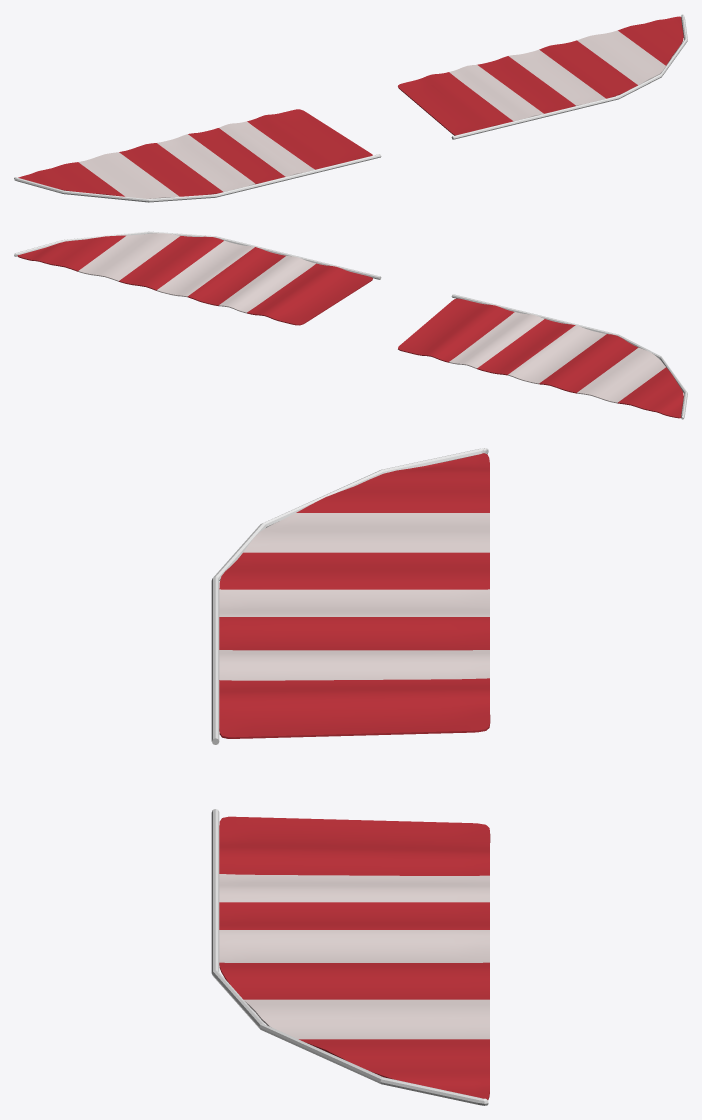
The model's file is skrzydla2.fbx.
3 renders of one model, top to bottom at view 1: azimuth 30°, elevation 25°; view 2: azimuth 150°, elevation 25°; view 3: azimuth 270°, elevation 25°, orthographic. The views are drawn at different scales.
Visible parts, largest first — view 1: Cylinder.003, Cylinder.002; view 2: Cylinder.003, Cylinder.002; view 3: Cylinder.003, Cylinder.002.
Boxes of the visible parts, x1,y1,x2,y2 form: Cylinder.003: (18,16,683,198); Cylinder.002: (14,14,687,202); Cylinder.003: (17,233,683,418); Cylinder.002: (14,231,687,419); Cylinder.003: (219,453,490,1099); Cylinder.002: (211,448,488,1105).
Bounding box in the file's own units: 810 × 4.06 × 146.
